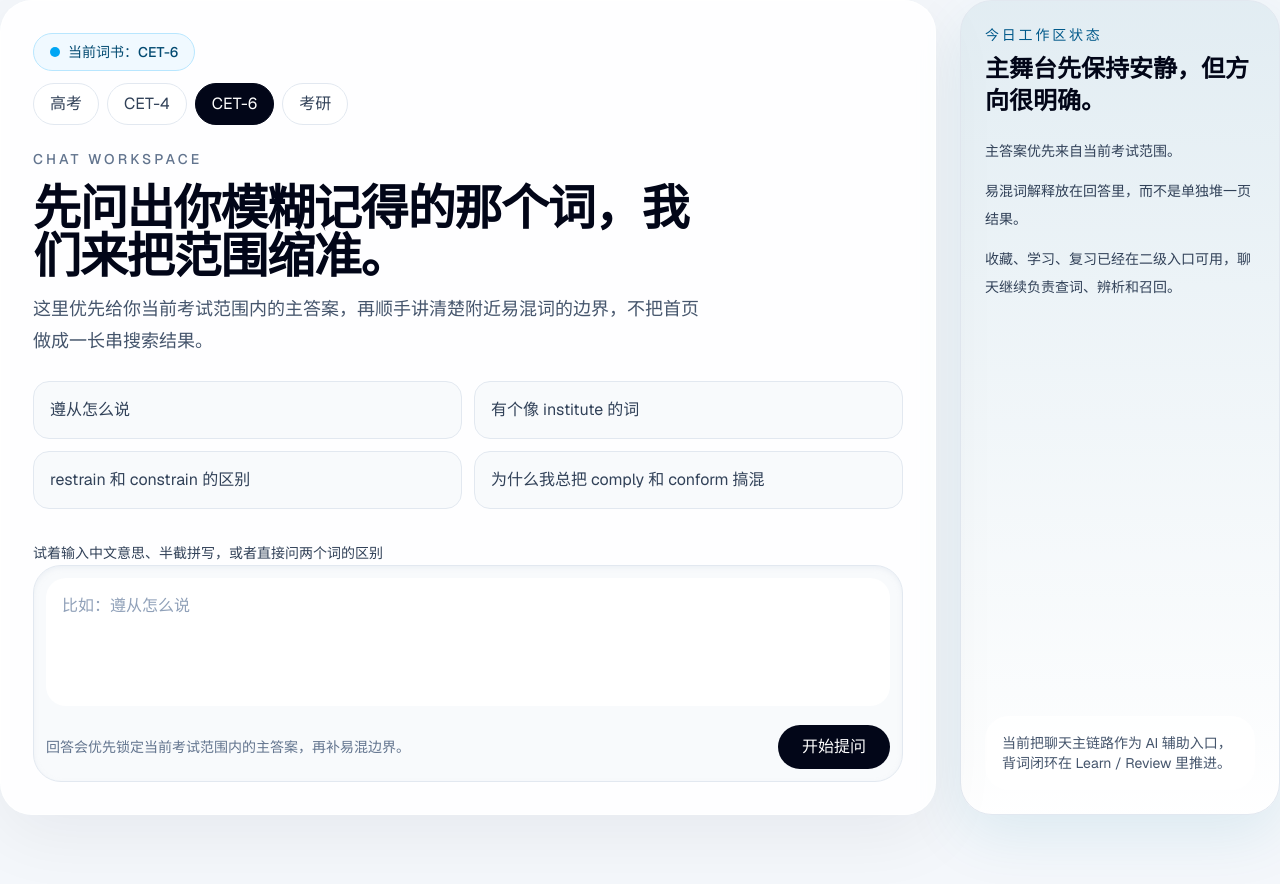
Test: ChatWorkspace › explains source-lemma lookup as source-list material instead of structured content
Type "accent" into the text box with test id "chat-input" at (468, 642), box [46,578,890,706]
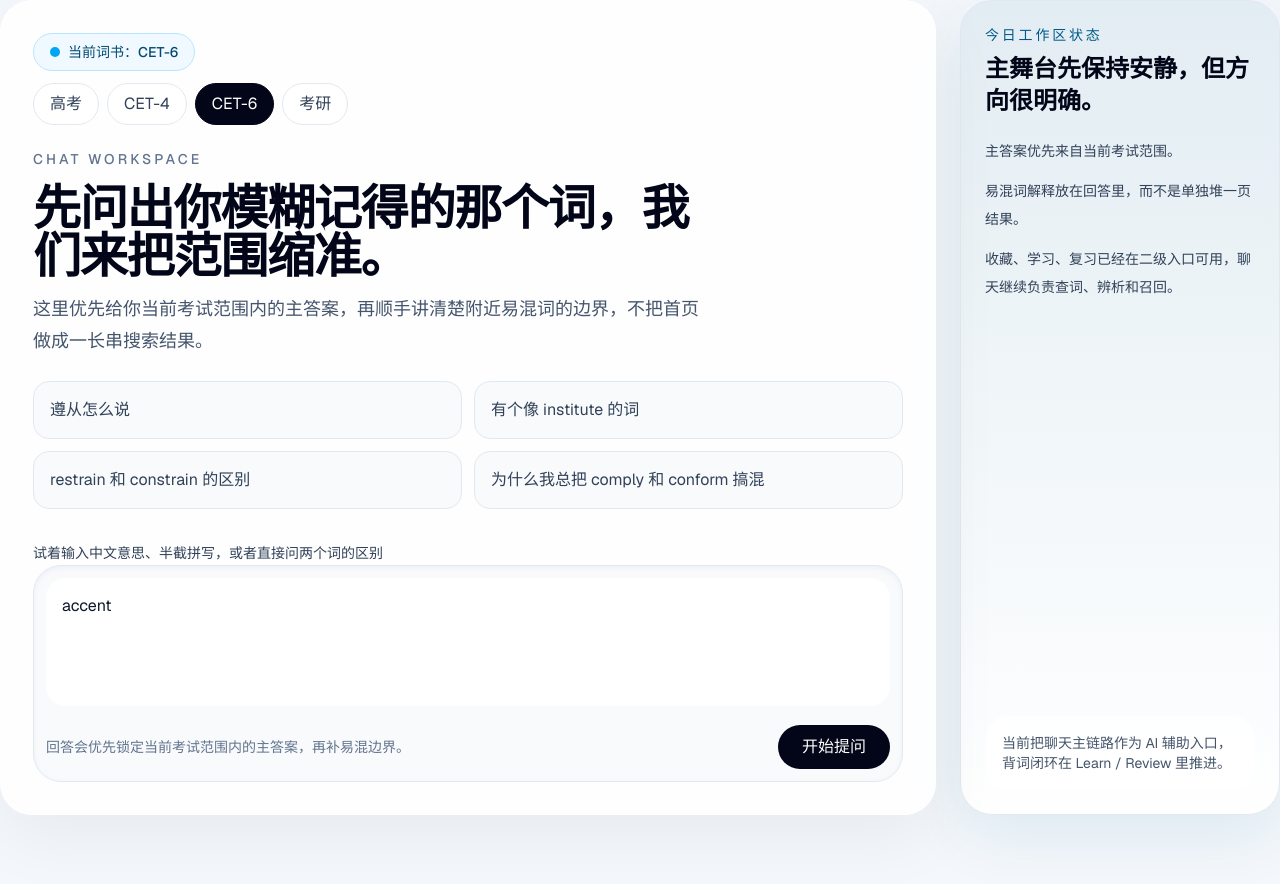
Click the button "开始提问" at (834, 747), box [778,725,890,769]
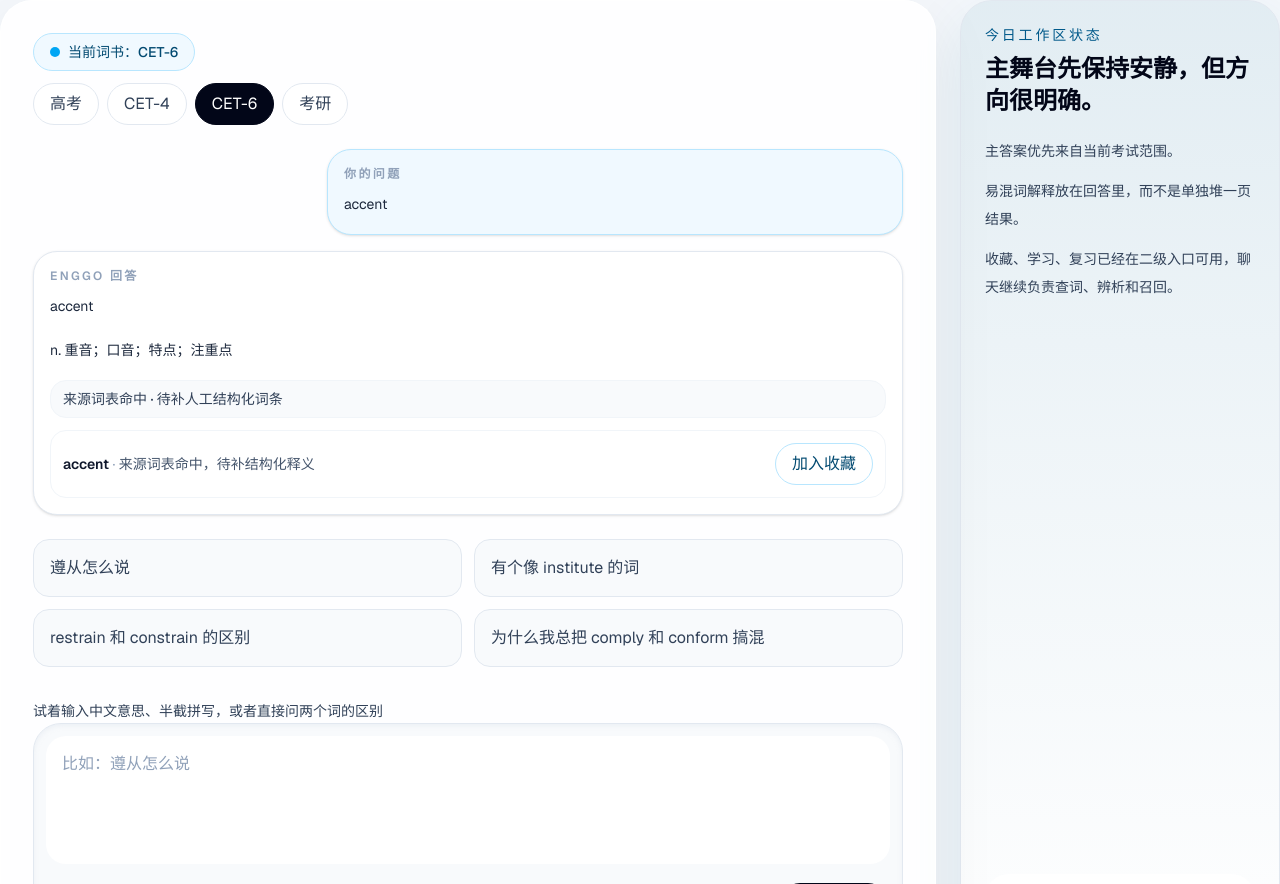
Now the text "来源词表命中 · 待补人工结构化词条" is shown, box [50,380,886,418]
